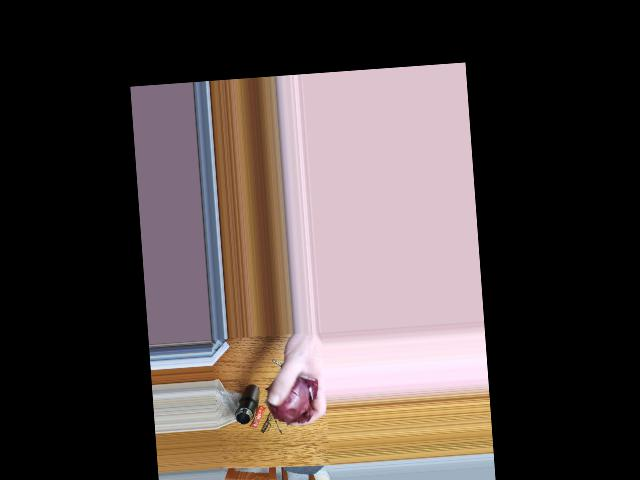onion: (272, 372, 315, 421)
